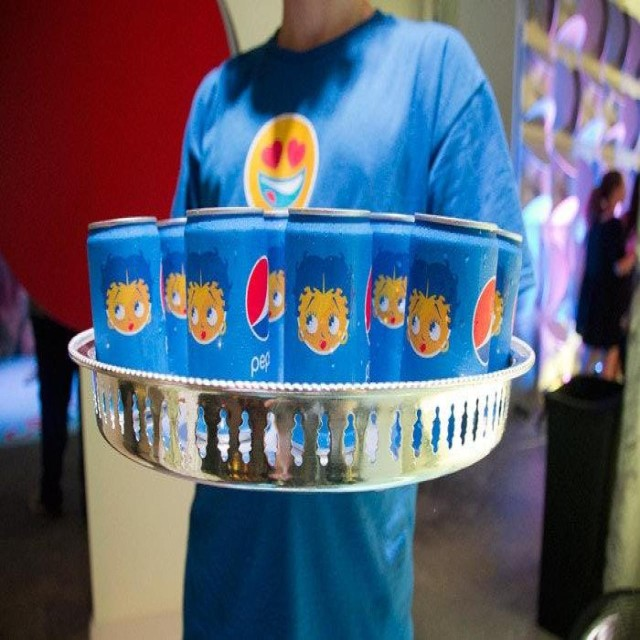pepsi: (246, 254, 272, 342)
